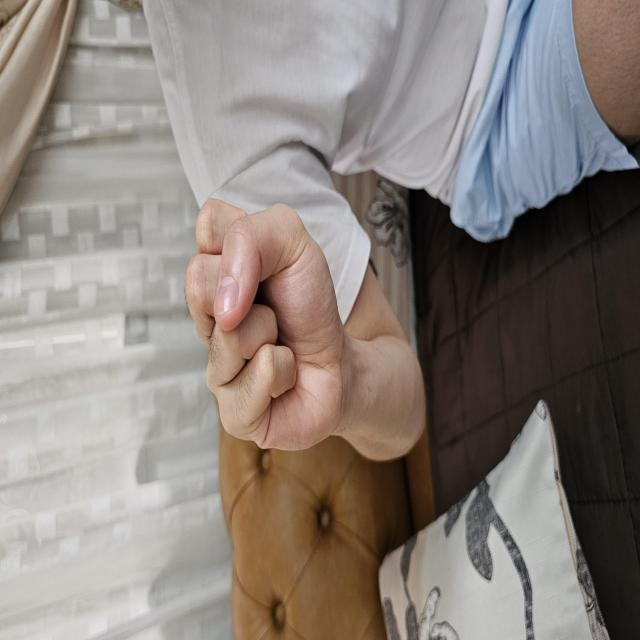S: (185, 182, 443, 345)
